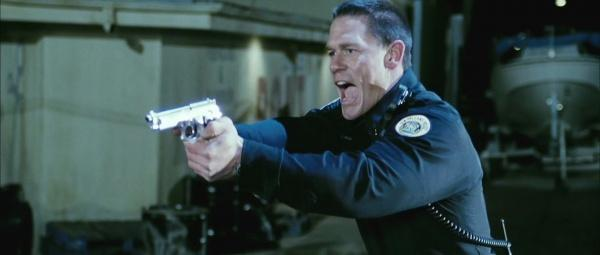Gun: (148, 99, 225, 143)
